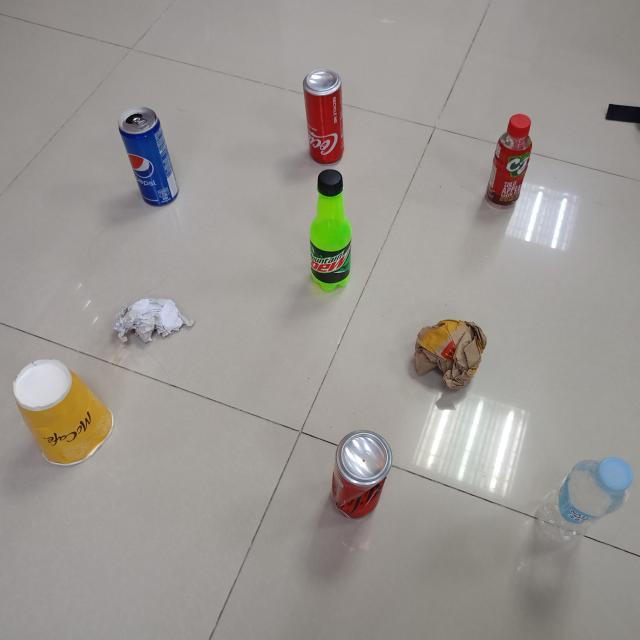recyclable waste: (7, 353, 119, 471), (530, 447, 638, 552), (114, 100, 184, 212), (327, 426, 397, 524), (410, 312, 490, 393), (305, 165, 355, 293), (479, 110, 538, 214), (300, 64, 350, 168), (110, 293, 198, 350)
